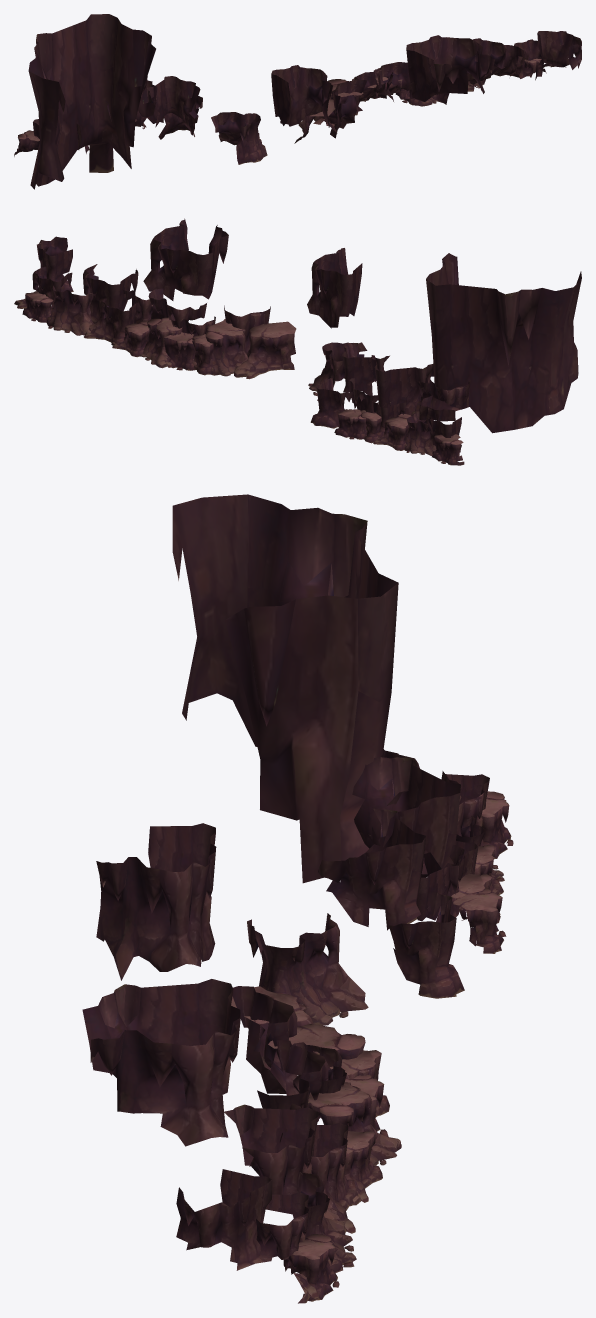
File: area4_shiqiang_02.FBX
The picture shows the model from 3 angles, top to bottom: view 1: azimuth 30°, elevation 25°; view 2: azimuth 150°, elevation 25°; view 3: azimuth 270°, elevation 25°; orthographic projection. The views are drawn at different scales.
Parts seen in each view (by area): view 1: area4_shiqiang_02; view 2: area4_shiqiang_02; view 3: area4_shiqiang_02.
Boxes of the visible parts, bbox=[...] form: area4_shiqiang_02: bbox=[14, 14, 581, 189]; area4_shiqiang_02: bbox=[14, 218, 581, 465]; area4_shiqiang_02: bbox=[82, 494, 513, 1303].
Size of the model in its own units: 16628 by 4811 by 5701.
